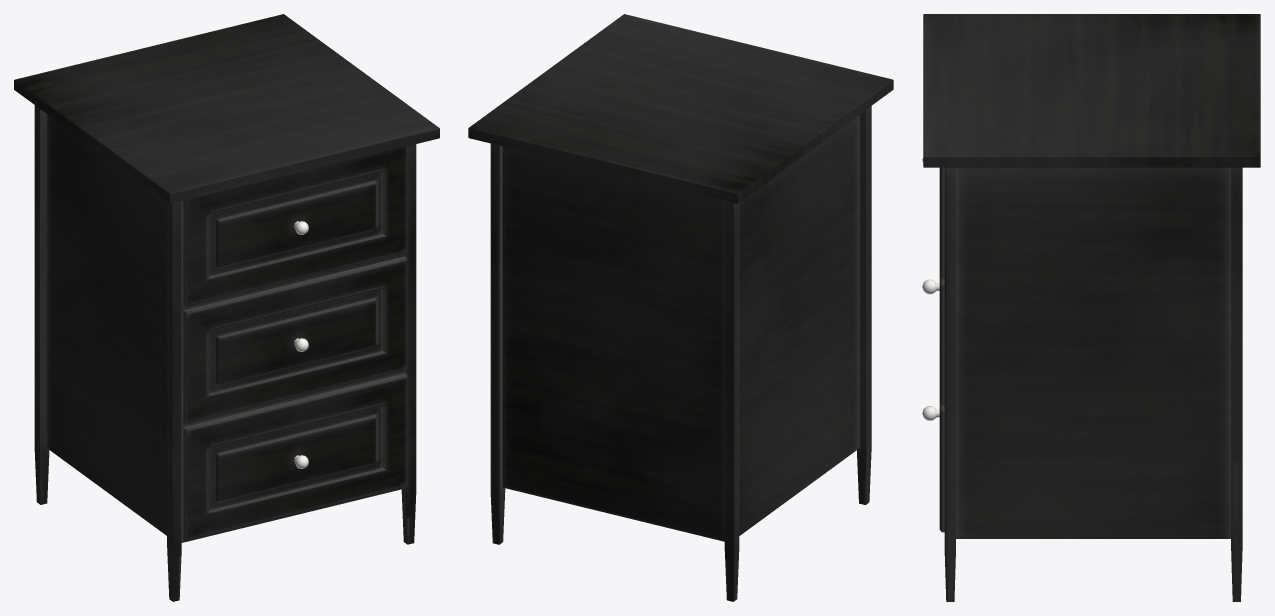
Rendered from bedroom_nightstand.fbx.
The picture shows the model from 3 angles, left to right: view 1: azimuth 30°, elevation 25°; view 2: azimuth 150°, elevation 25°; view 3: azimuth 270°, elevation 25°; orthographic projection. The views are drawn at different scales.
Visible parts, largest first — view 1: Cylinder.027; view 2: Cylinder.027; view 3: Cylinder.027.
Part boxes in pixels (x1=…): Cylinder.027: x1=14, y1=14, x2=439, y2=601; Cylinder.027: x1=468, y1=14, x2=893, y2=601; Cylinder.027: x1=922, y1=14, x2=1260, y2=601.
Size of the model in its own units: 43.18 by 64.08 by 43.33.
